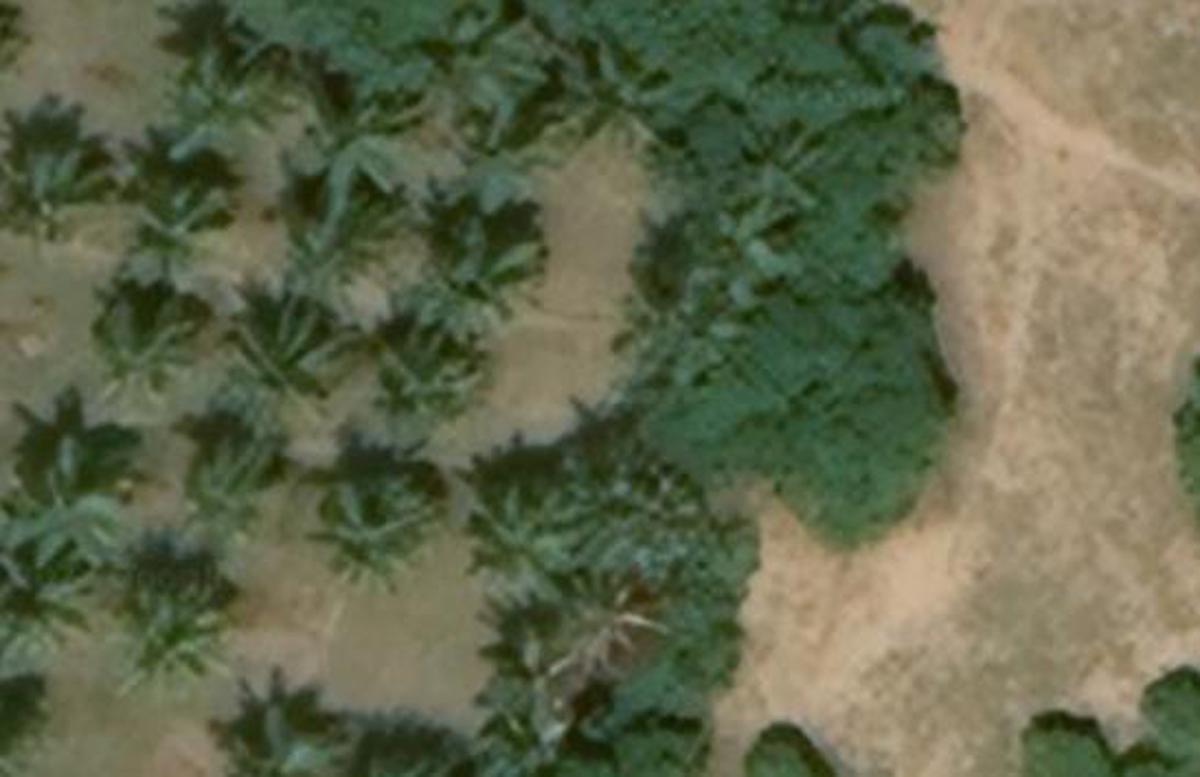coconut: (309, 463, 458, 597), (6, 438, 138, 577), (296, 89, 419, 234), (236, 296, 368, 425), (92, 291, 223, 414), (478, 621, 603, 744), (107, 594, 241, 708), (168, 43, 304, 155), (429, 28, 548, 151), (559, 30, 673, 149), (416, 206, 550, 307), (471, 482, 581, 601), (381, 307, 491, 425), (186, 430, 293, 550), (6, 140, 114, 250), (212, 695, 361, 770), (127, 175, 232, 274), (563, 586, 671, 680), (739, 122, 835, 221), (4, 590, 98, 669), (282, 239, 368, 313)
